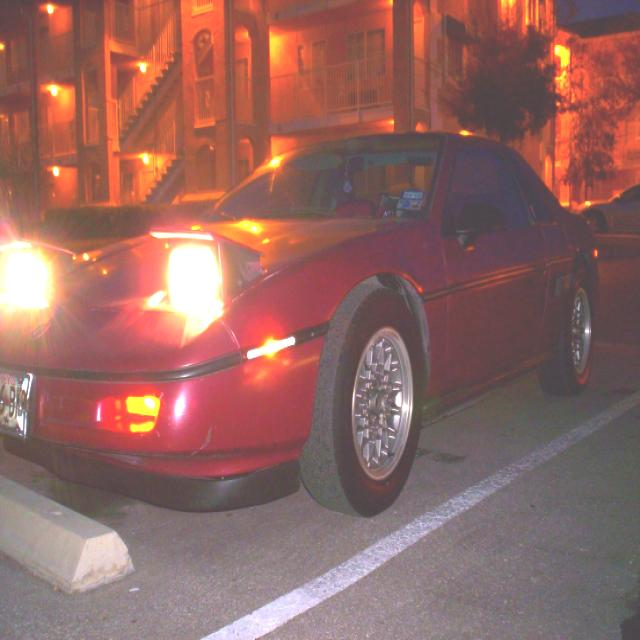Car: (0, 135, 598, 516)
